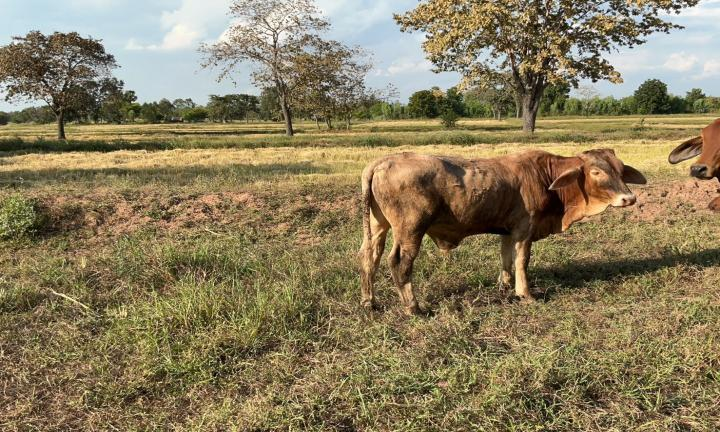Charolais: (359, 149, 646, 313)
